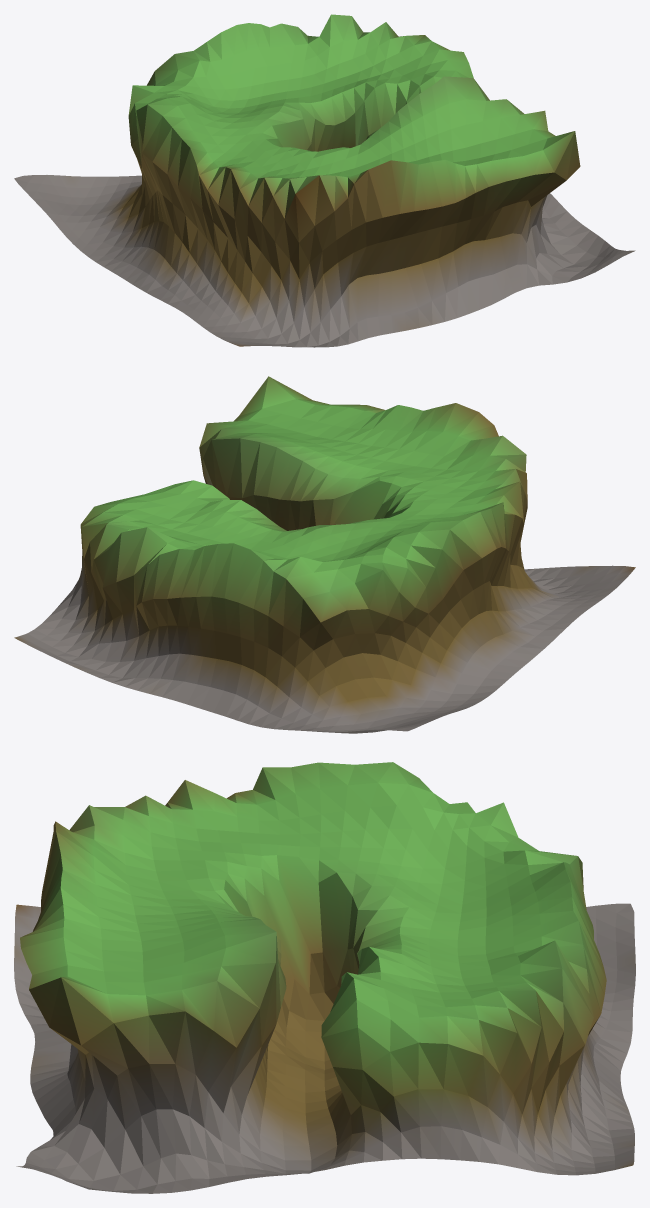
3 views of the same model, one above another, from view 1: azimuth 30°, elevation 25°; view 2: azimuth 150°, elevation 25°; view 3: azimuth 270°, elevation 25° (orthographic). The views are drawn at different scales.
Parts seen in each view (by area): view 1: Plane; view 2: Plane; view 3: Plane.
Boxes of the visible parts, left/top/right/bottom form: Plane: left=14, top=14, right=635, bottom=347; Plane: left=14, top=376, right=635, bottom=733; Plane: left=14, top=762, right=635, bottom=1193.
Size of the model in its own units: 1423 by 564 by 1407.
